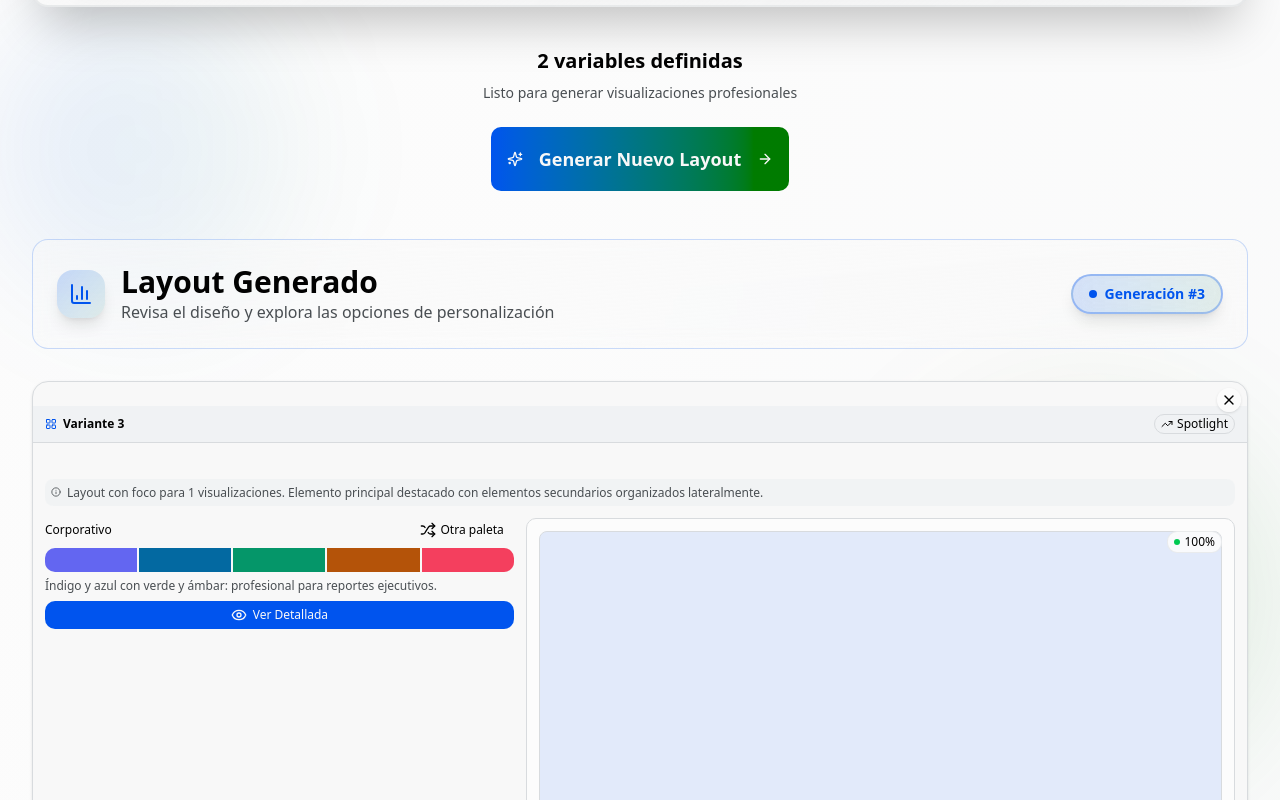
Test: deleting the current layout › shows the newest remaining layout as the current one instead of hiding it
This screenshot has width=1280, height=800.
(page scrolled)
Click the button named "Eliminar layout": click(1229, 400) [1217,388,1241,412]
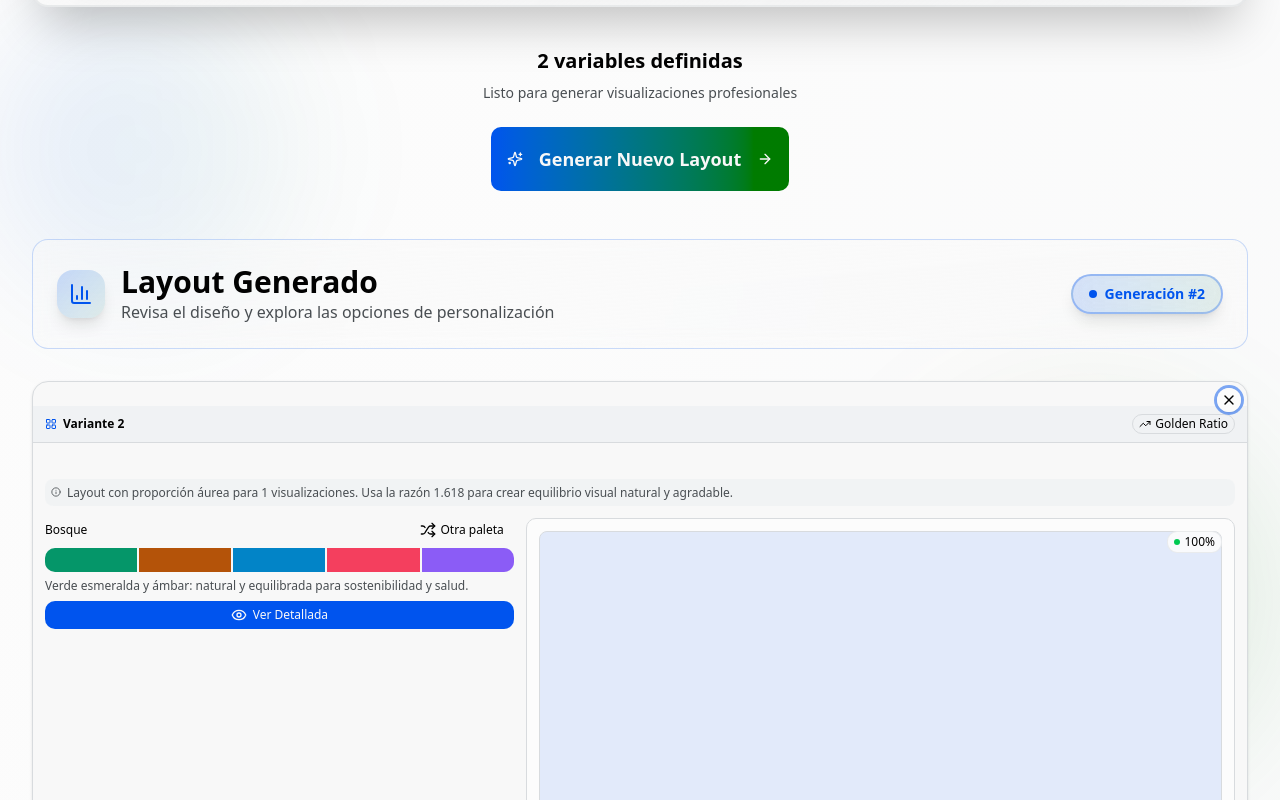
Expected: the heading "Layout Generado" is shown, [121,261,378,302]
Expected: the number of buttons named "Eliminar layout" is 2
